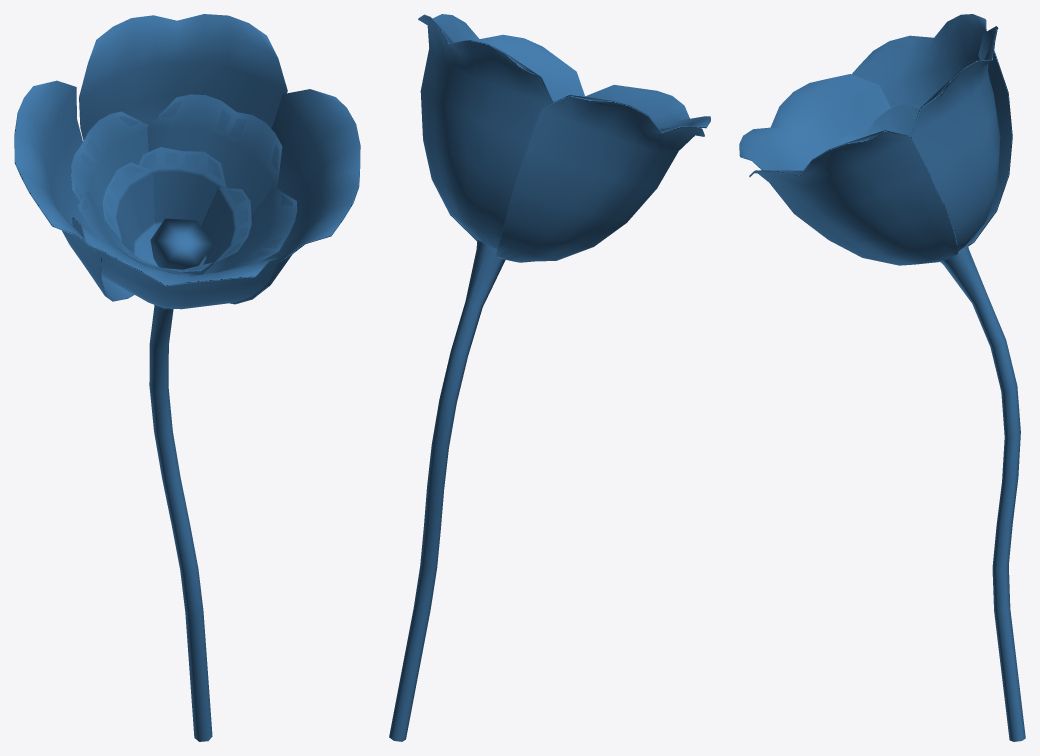
Rendered from Mesh_FlorRosa_v001.fbx.
The picture shows the model from 3 angles, left to right: view 1: azimuth 30°, elevation 25°; view 2: azimuth 150°, elevation 25°; view 3: azimuth 270°, elevation 25°; orthographic projection. The views are drawn at different scales.
Parts seen in each view (by area): view 1: Mesh_FlorRosa_v001; view 2: Mesh_FlorRosa_v001; view 3: Mesh_FlorRosa_v001.
Boxes of the visible parts, x1,y1,x2,y2 form: Mesh_FlorRosa_v001: (14,14,360,741); Mesh_FlorRosa_v001: (389,14,710,741); Mesh_FlorRosa_v001: (739,14,1025,741).
Bounding box in the file's own units: 0.4394 × 1.07 × 0.4123.
